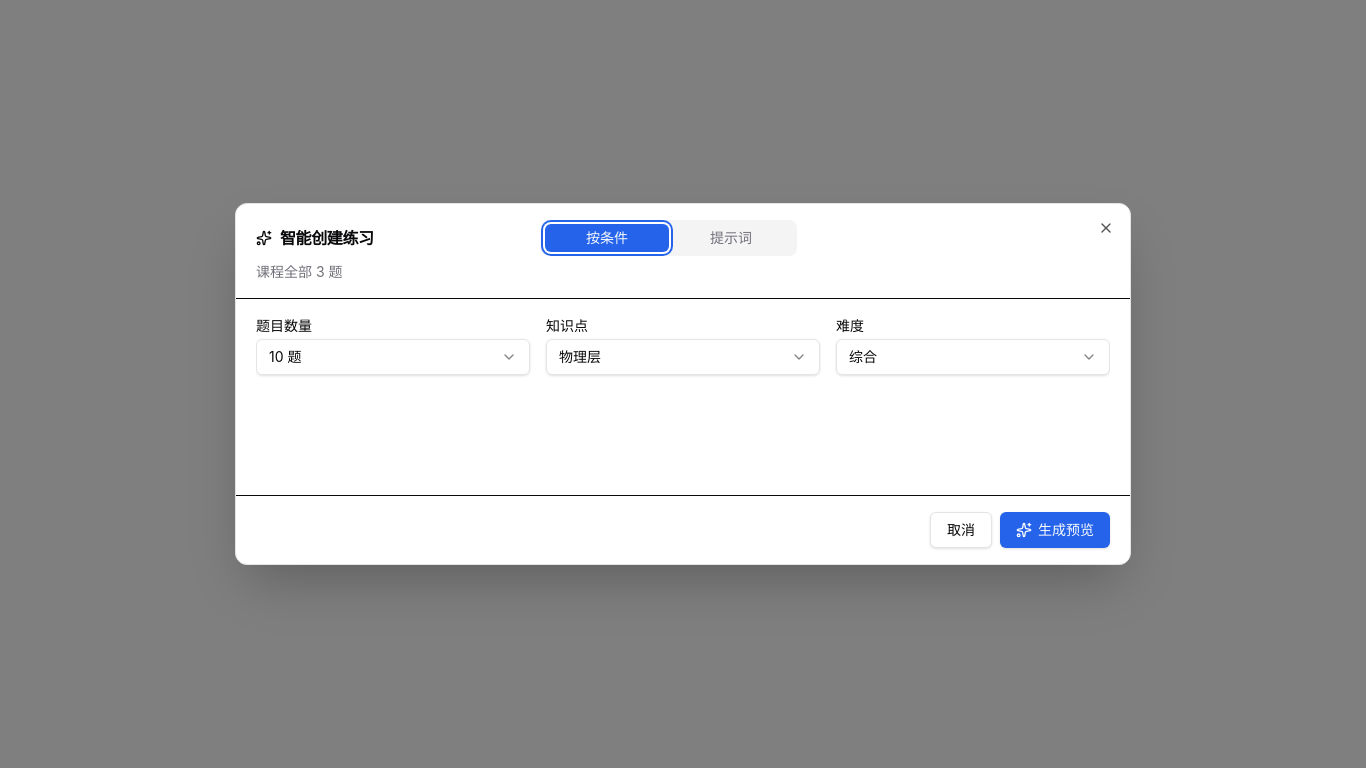
Scenario: SmartPracticeDialog › 选中上级知识点时，预览把子知识点的题目一并纳入
The image size is (1366, 768).
Check: the text "课程全部 3 题" is shown, box [256,263,342,280]
Click the button "生成预览". click: (1055, 530)
box: [1000,512,1110,548]
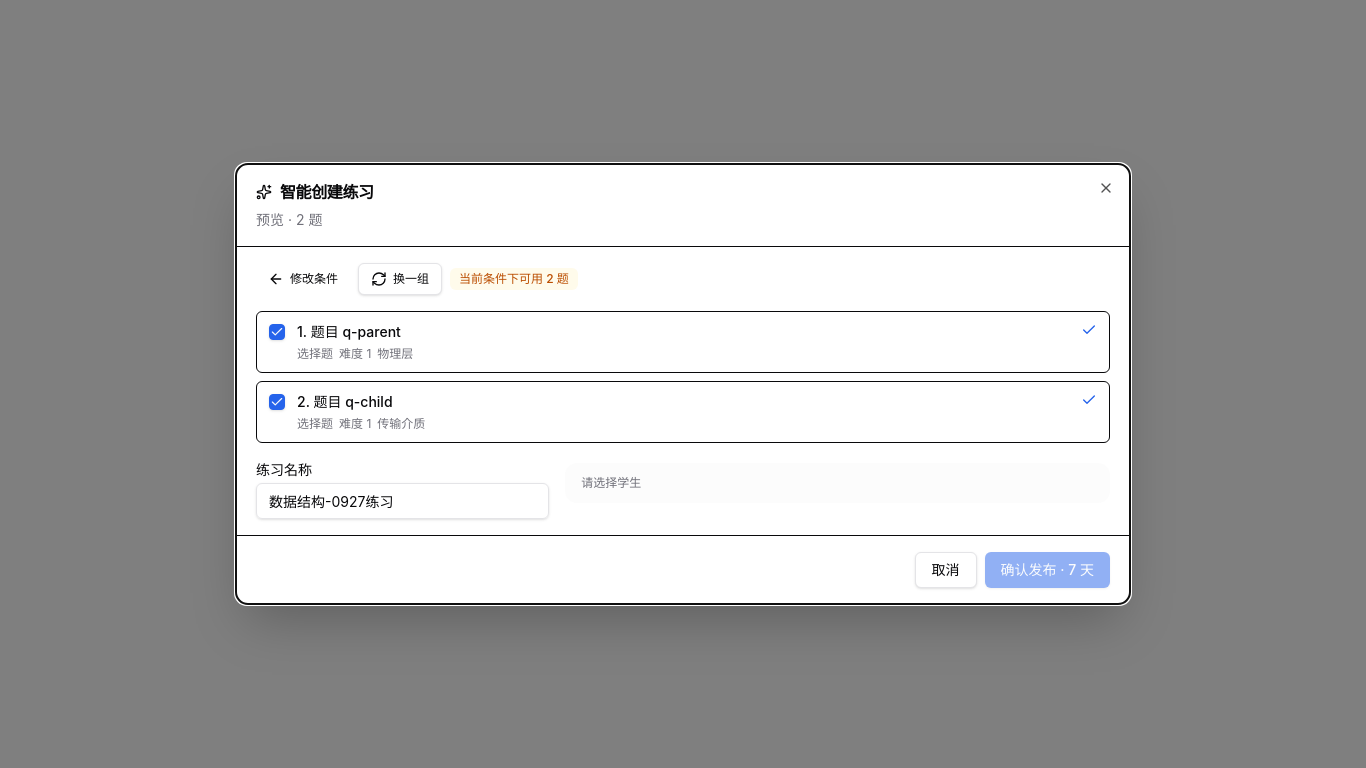
Check: the text "1. 题目 q-parent" is shown, box [297,323,401,340]
Check: the text "2. 题目 q-child" is shown, box [297,393,393,410]
